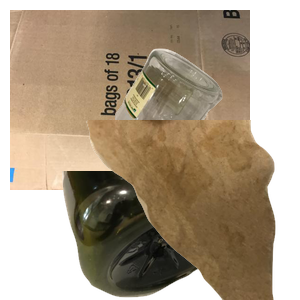cardboard: (10, 10, 250, 190)
glass: (110, 46, 300, 205)
plastic: (60, 171, 300, 300)
trash: (84, 120, 300, 300)
